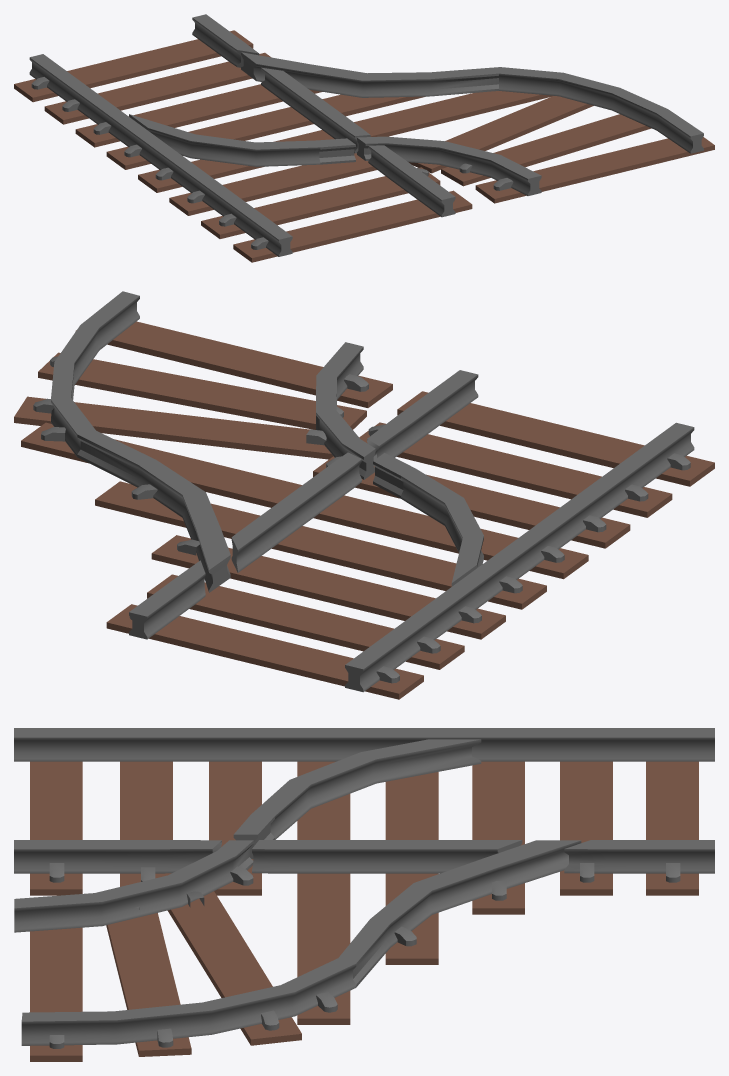
File: Trilho_juncao.fbx
3 views of the same model, one above another, from view 1: azimuth 30°, elevation 25°; view 2: azimuth 150°, elevation 25°; view 3: azimuth 270°, elevation 25° (orthographic). The views are drawn at different scales.
Visible parts, largest first — view 1: Trilho_juncao; view 2: Trilho_juncao; view 3: Trilho_juncao.
Part boxes in pixels (left/top/right/bottom): Trilho_juncao: left=14, top=14, right=714, bottom=262; Trilho_juncao: left=14, top=291, right=714, bottom=699; Trilho_juncao: left=14, top=728, right=714, bottom=1061.
Size of the model in its own units: 426 by 19.27 by 398.
